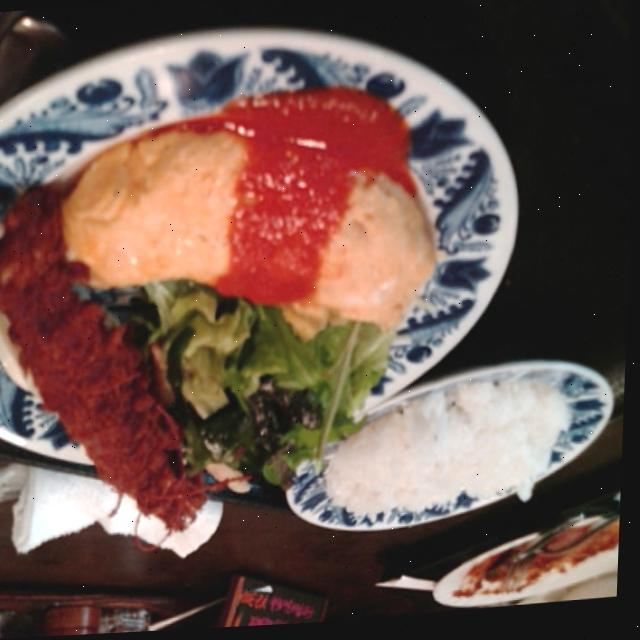鸡蛋料理: (56, 101, 513, 347)
